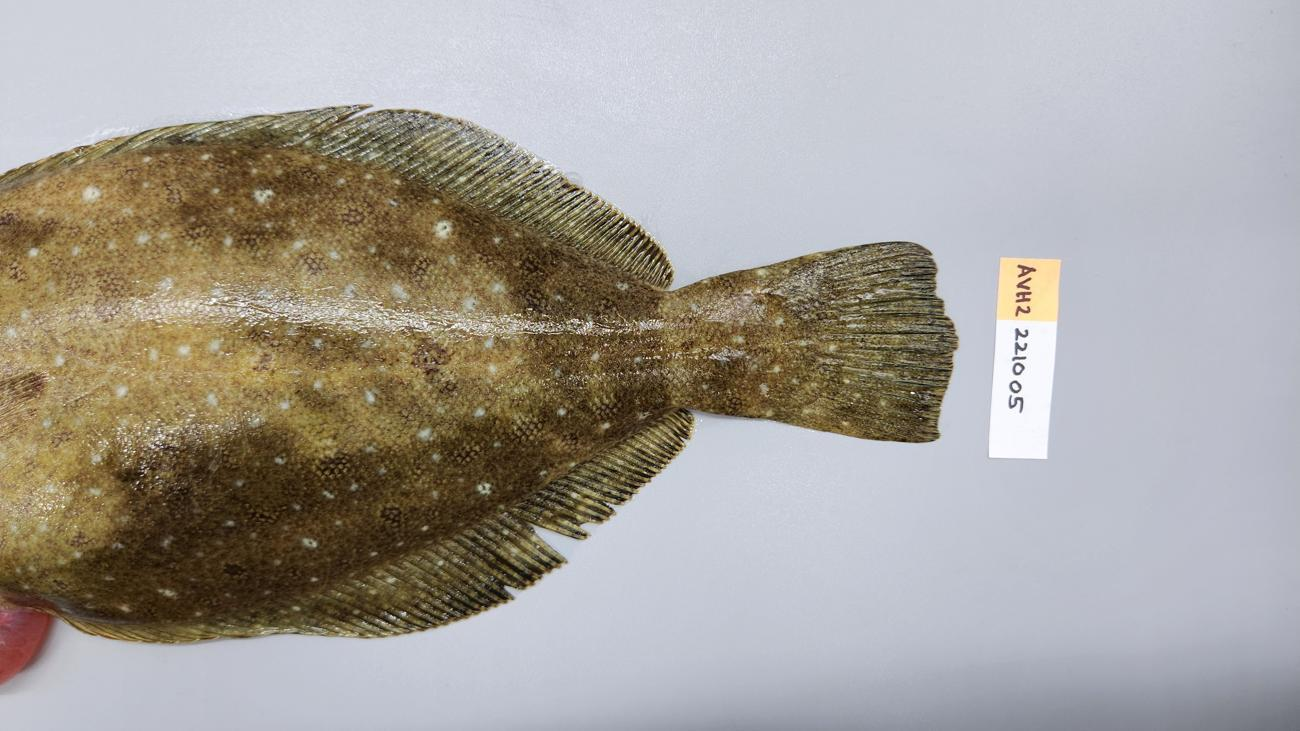VIDYH: (230, 317, 458, 390), (590, 297, 749, 364)
